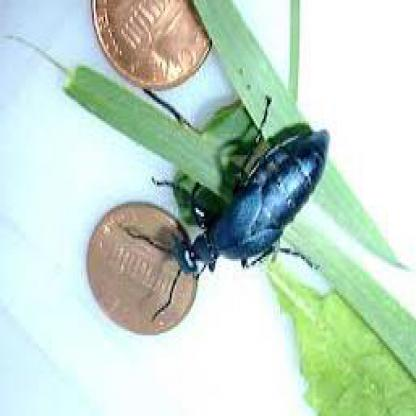blister beetle: (171, 129, 329, 276)
